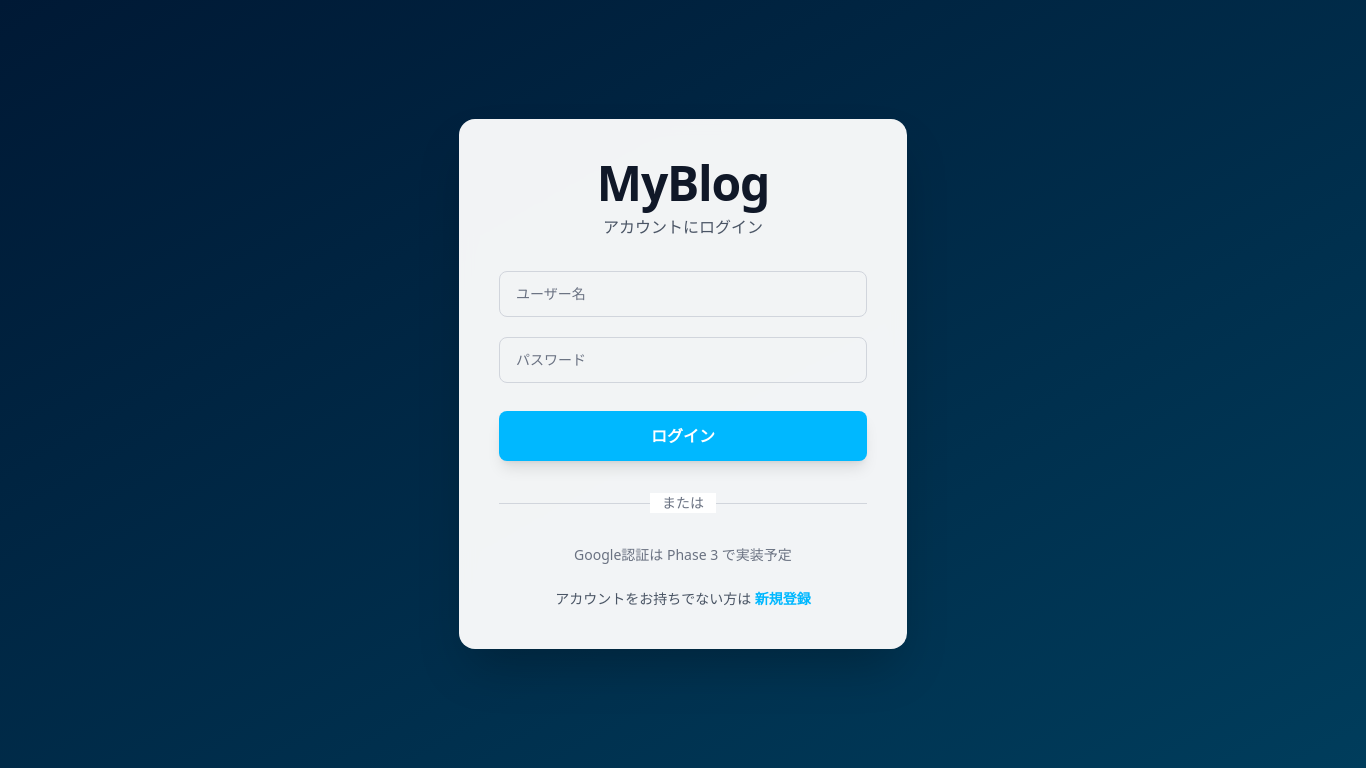
Test: LoginPage › バリデーション › 空のフォームを送信するとバリデーションエラーが表示される
The image size is (1366, 768).
Click the button "ログイン" at (683, 436), box 499,411 -> 867,461
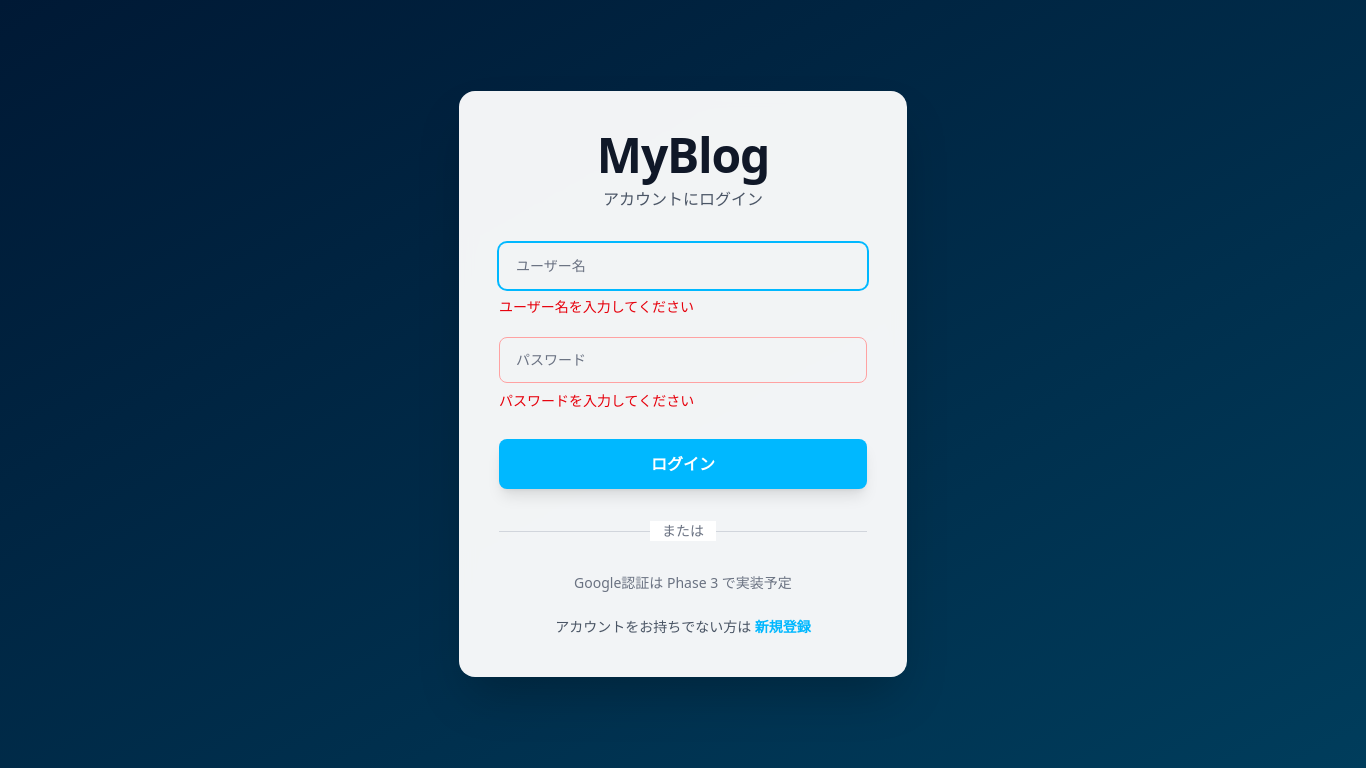
Check: the text "ユーザー名を入力してください" is shown, box 499,297 -> 694,316
Check: the text "パスワードを入力してください" is shown, box 499,391 -> 694,410
